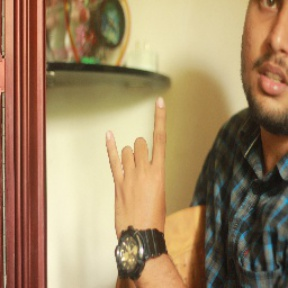V: (100, 95, 175, 242)
